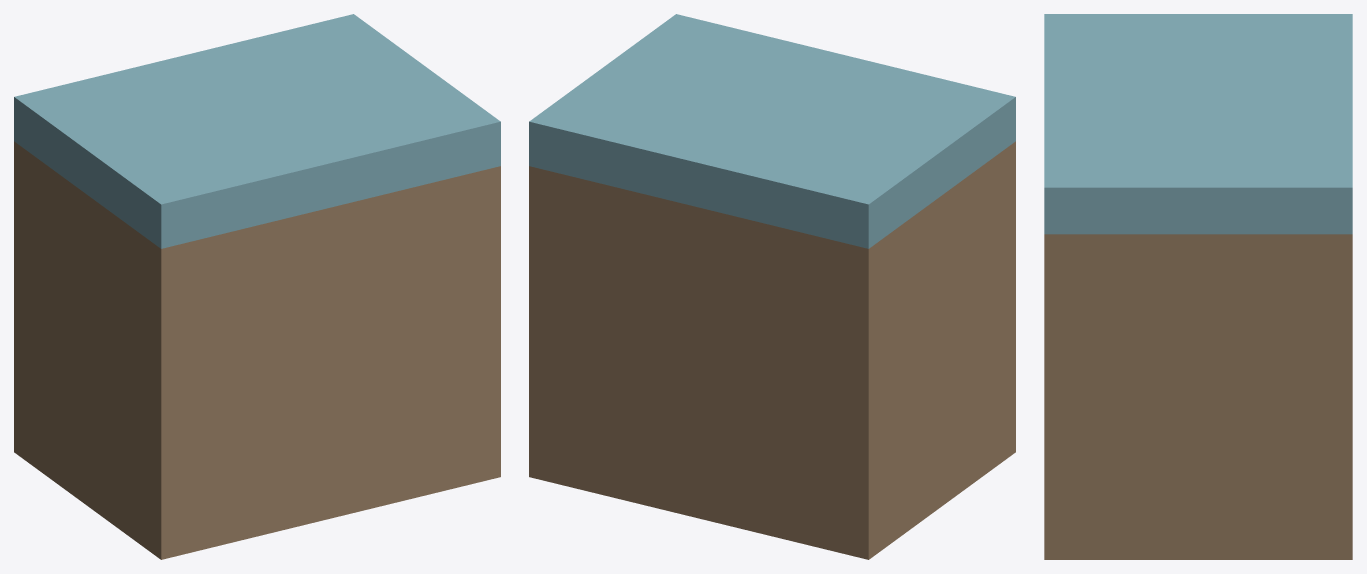
The model's file is kit_int_card_display.glb.
The picture shows the model from 3 angles, left to right: view 1: azimuth 30°, elevation 25°; view 2: azimuth 150°, elevation 25°; view 3: azimuth 270°, elevation 25°; orthographic projection. The views are drawn at different scales.
Visible parts, largest first — view 1: kit_int_card_display-col; view 2: kit_int_card_display-col; view 3: kit_int_card_display-col.
Boxes of the visible parts, x1,y1,x2,y2 form: kit_int_card_display-col: (14, 14, 500, 559); kit_int_card_display-col: (529, 14, 1015, 559); kit_int_card_display-col: (1044, 14, 1352, 559).
Size of the model in its own units: 1 by 1 by 0.75.
